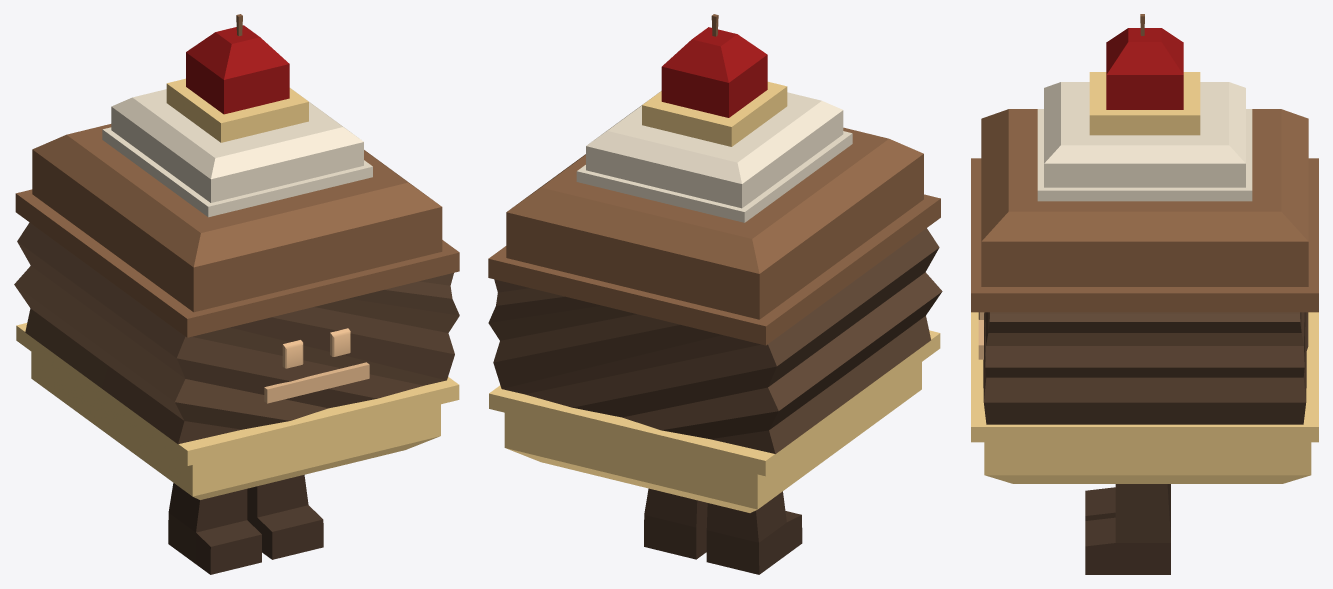
The model's file is st1_block12.fbx.
The picture shows the model from 3 angles, left to right: view 1: azimuth 30°, elevation 25°; view 2: azimuth 150°, elevation 25°; view 3: azimuth 270°, elevation 25°; orthographic projection.
Parts seen in each view (by area): view 1: st1_block12_head, st1_block12_middle, st1_block12_down, st1_block12_head_ad, st1_block12_head_ad3, st1_block12_L_leg, st1_block12_R_leg, st1_block12_head_ad2, st1_block12__mouth, st1_block12_L_eye; view 2: st1_block12_head, st1_block12_middle, st1_block12_down, st1_block12_head_ad, st1_block12_head_ad3, st1_block12_L_leg, st1_block12_head_ad2, st1_block12_R_leg; view 3: st1_block12_head, st1_block12_middle, st1_block12_down, st1_block12_head_ad, st1_block12_R_leg, st1_block12_head_ad3, st1_block12_head_ad2, st1_block12_L_leg.
Boxes of the visible parts, x1,y1,x2,y2 form: st1_block12_head: [15, 124, 459, 337]; st1_block12_middle: [14, 222, 459, 444]; st1_block12_down: [16, 323, 459, 499]; st1_block12_head_ad: [102, 89, 372, 217]; st1_block12_head_ad3: [186, 14, 289, 114]; st1_block12_L_leg: [168, 483, 261, 574]; st1_block12_R_leg: [247, 474, 323, 559]; st1_block12_head_ad2: [166, 78, 308, 142]; st1_block12__mouth: [264, 362, 369, 403]; st1_block12_L_eye: [282, 340, 303, 368]; st1_block12_head: [488, 127, 940, 345]; st1_block12_middle: [488, 228, 942, 453]; st1_block12_down: [489, 330, 940, 512]; st1_block12_head_ad: [576, 92, 852, 222]; st1_block12_head_ad3: [661, 14, 767, 117]; st1_block12_L_leg: [706, 491, 802, 574]; st1_block12_head_ad2: [642, 81, 787, 146]; st1_block12_R_leg: [644, 488, 707, 559]; st1_block12_head: [971, 109, 1318, 312]; st1_block12_middle: [983, 312, 1308, 424]; st1_block12_down: [971, 312, 1318, 483]; st1_block12_head_ad: [1037, 82, 1252, 201]; st1_block12_R_leg: [1085, 484, 1170, 574]; st1_block12_head_ad3: [1106, 14, 1183, 109]; st1_block12_head_ad2: [1089, 72, 1200, 135]; st1_block12_L_leg: [1085, 484, 1170, 520].
Bounding box in the file's own units: 470 × 822 × 487.
1 material, 1 textured.
